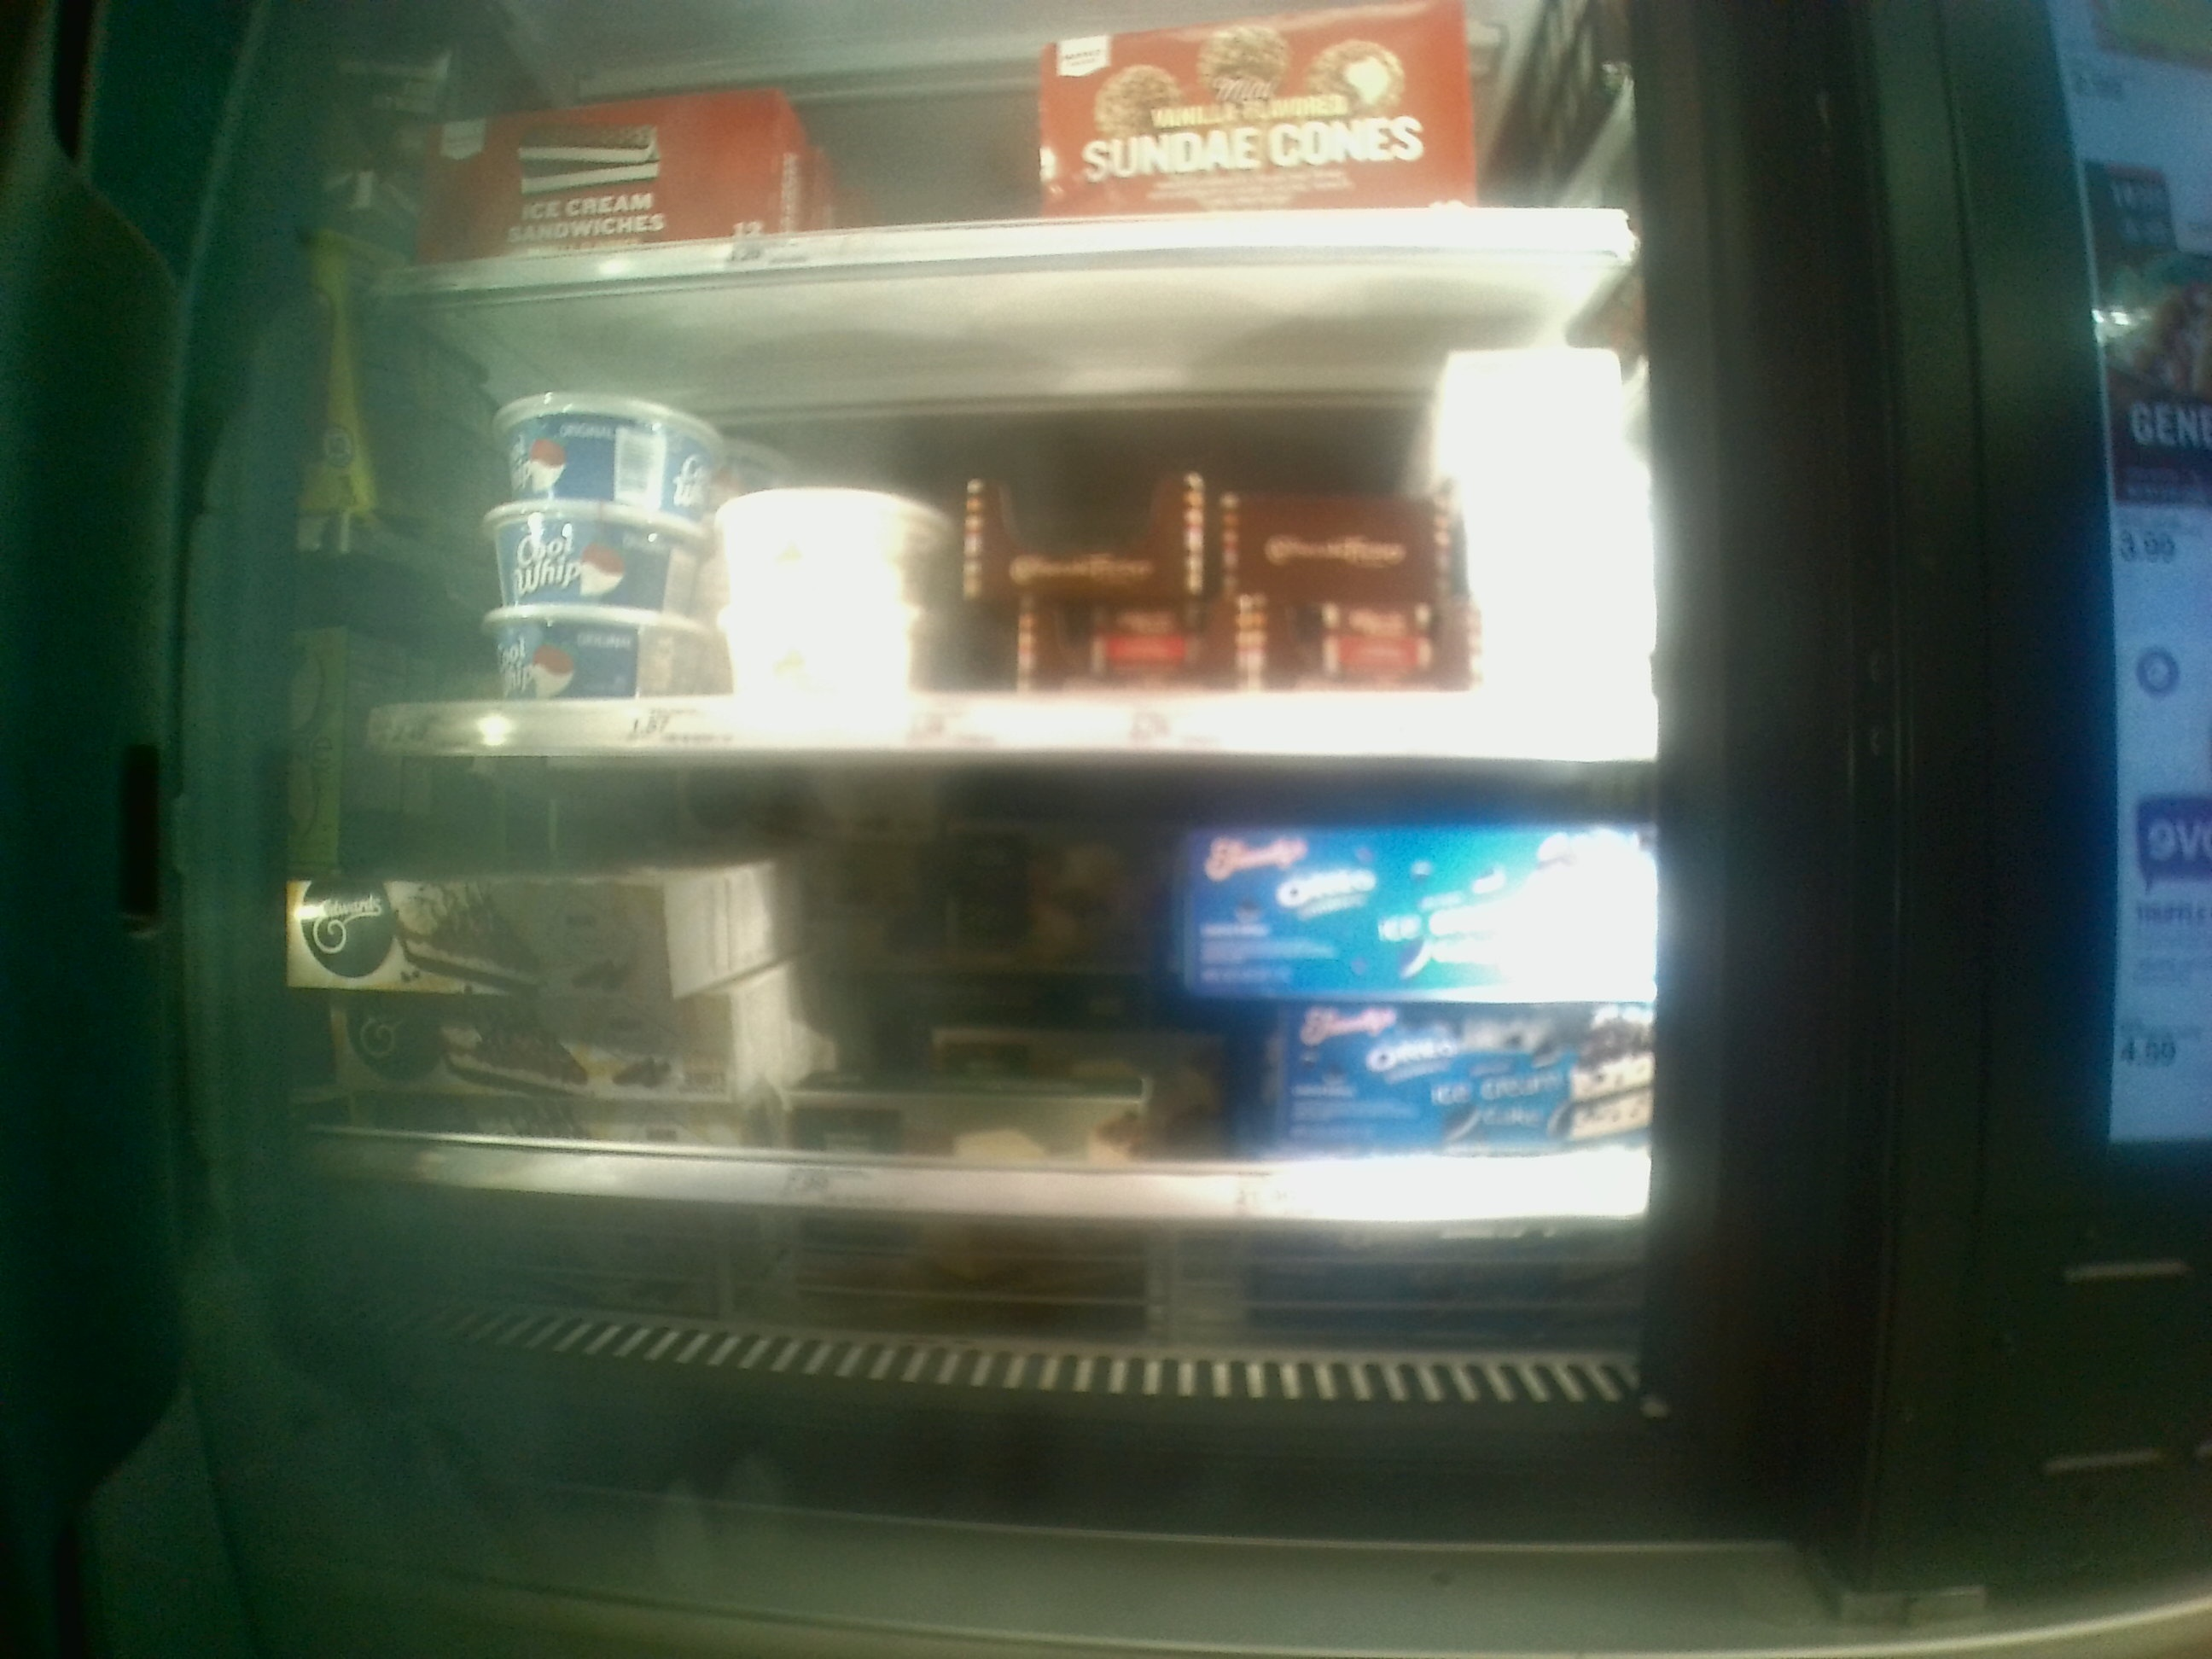shelf: (223, 756, 1689, 1288), (331, 279, 1662, 769)
